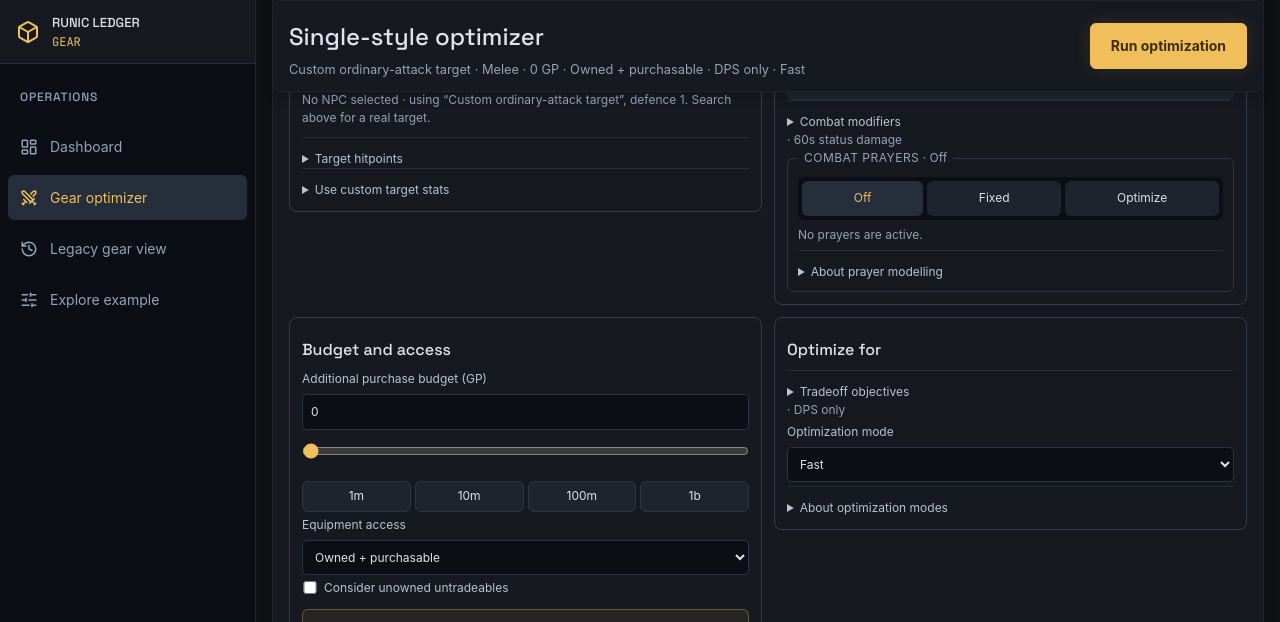
Test case: submits shorthand budgets as whole GP and shows the readback
This screenshot has width=1280, height=622.
(page scrolled)
Replace the text in the field labelled "Additional purchase budget (GP)" with "2.5m" at coordinates (526, 412), box x1=302 y1=394 x2=749 y2=430
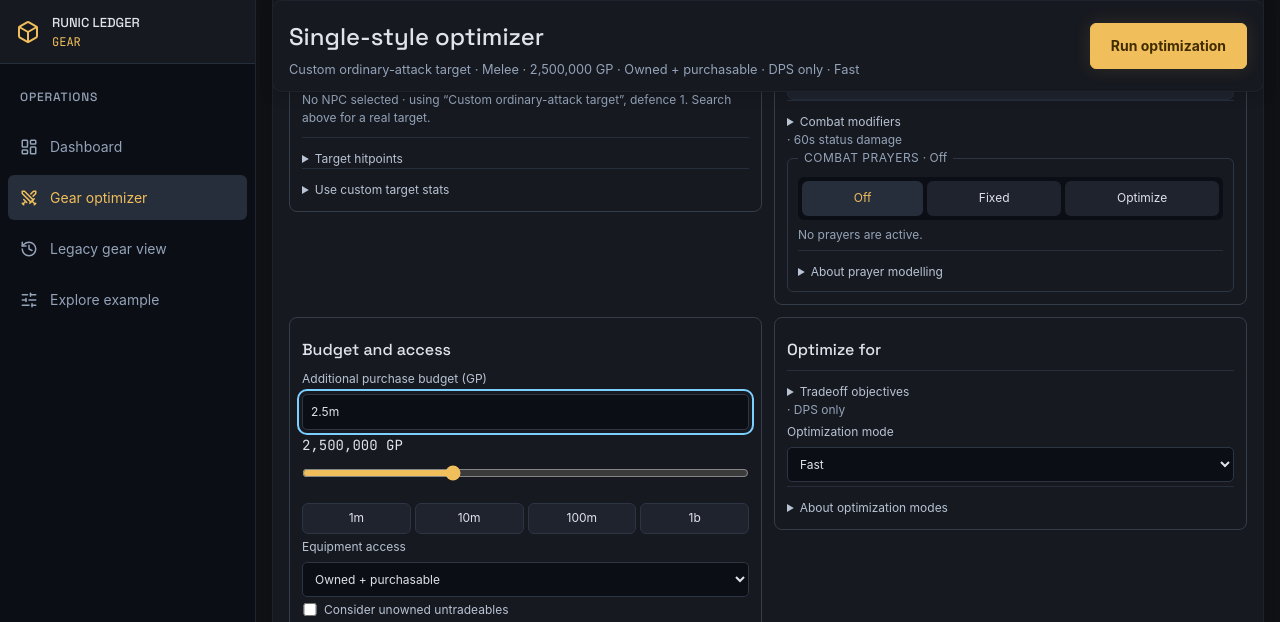
Expected: the text "2,500,000 GP" is shown, x1=302 y1=436 x2=403 y2=454
Click the button "Run optimization" at coordinates (1168, 46), box x1=1090 y1=23 x2=1247 y2=69
(page scrolled)
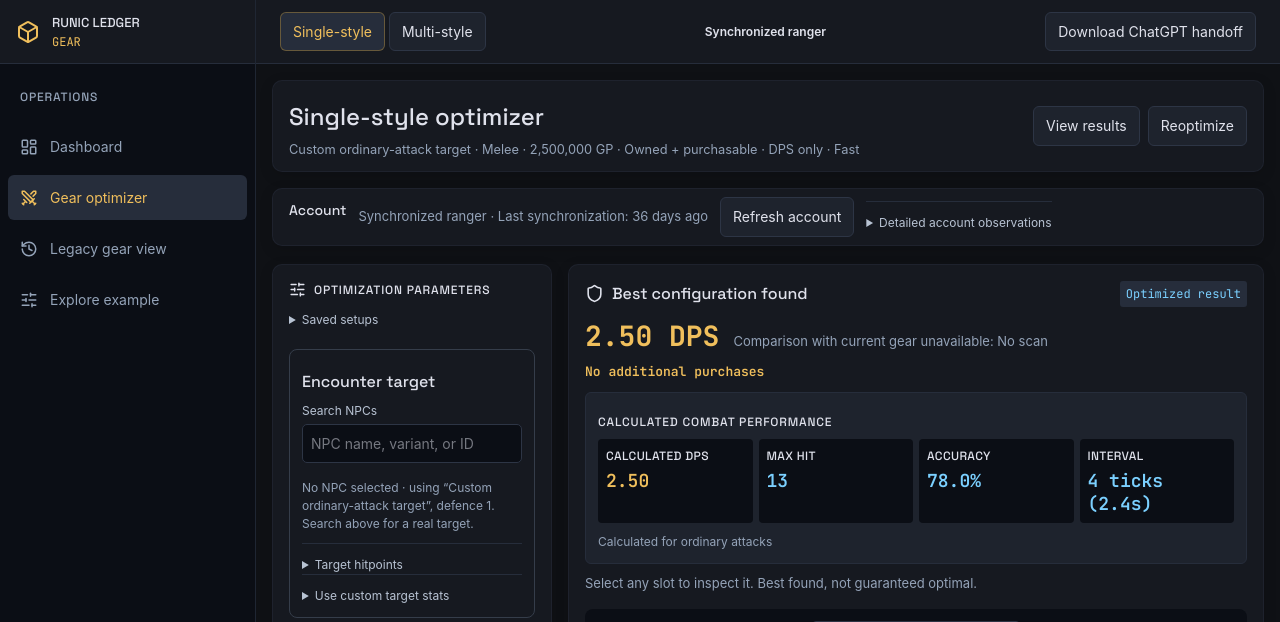
Expected: the heading "Best configuration found" is shown, x1=585 y1=282 x2=808 y2=306
